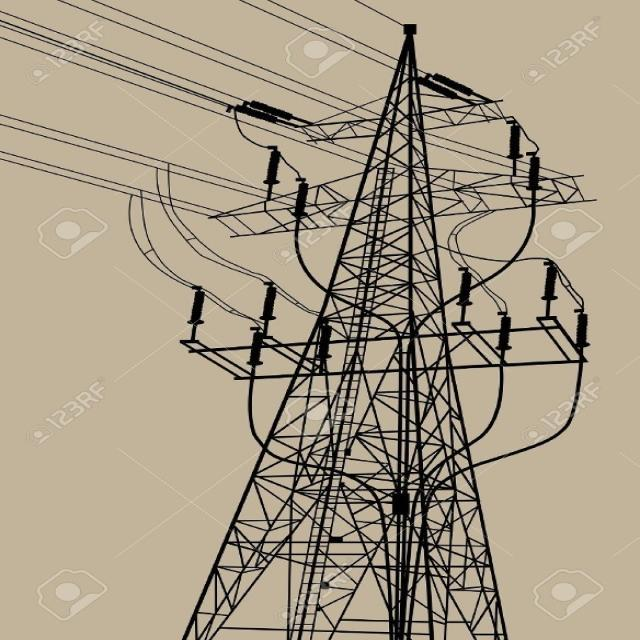non-critical vegetation: (197, 28, 558, 546)
